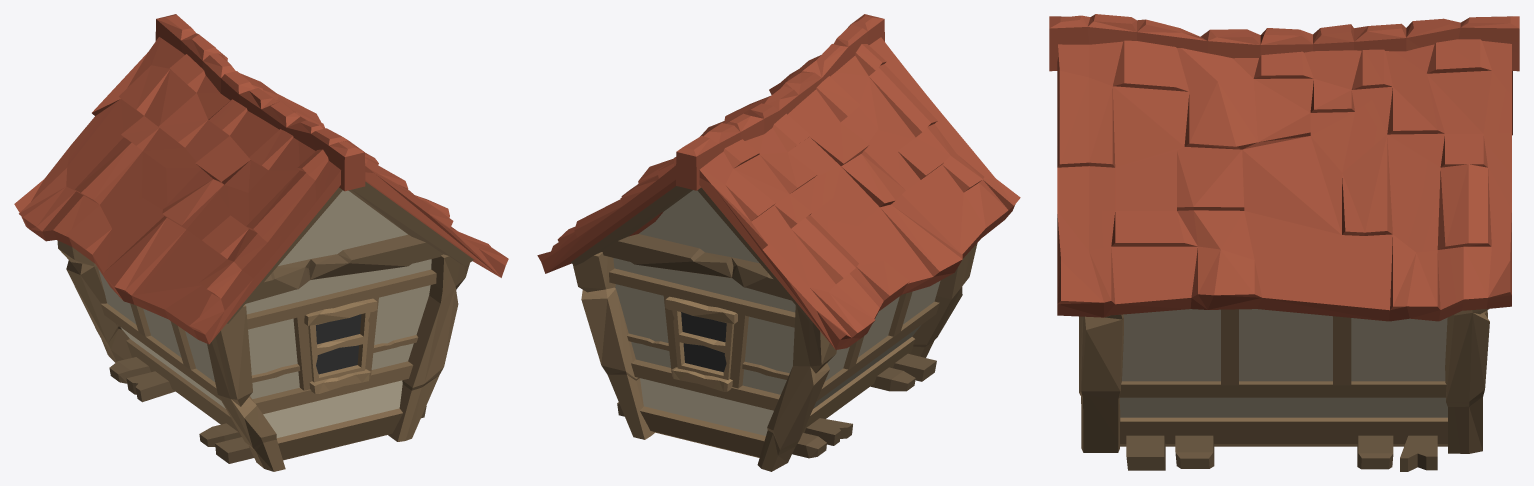
Rendered from SM_Bld_House_TopRoomSmall_06.gltf.
3 renders of one model, left to right at view 1: azimuth 30°, elevation 25°; view 2: azimuth 150°, elevation 25°; view 3: azimuth 270°, elevation 25°, orthographic. The views are drawn at different scales.
Visible parts, largest first — view 1: SM_Bld_House_TopRoomSmall_06; view 2: SM_Bld_House_TopRoomSmall_06; view 3: SM_Bld_House_TopRoomSmall_06.
Part boxes in pixels (x1=…): SM_Bld_House_TopRoomSmall_06: x1=14, y1=14, x2=508, y2=471; SM_Bld_House_TopRoomSmall_06: x1=537, y1=14, x2=1020, y2=471; SM_Bld_House_TopRoomSmall_06: x1=1049, y1=14, x2=1519, y2=471.
Bounding box in the file's own units: 4.68 × 4.29 × 4.67.
1 material, 1 textured.
